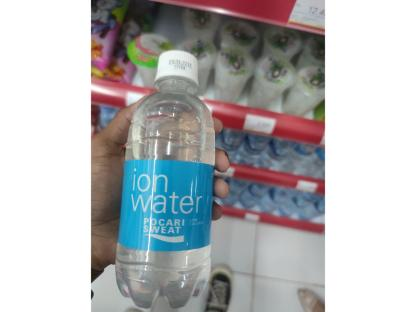Plastic Bottle: (112, 46, 226, 312)
